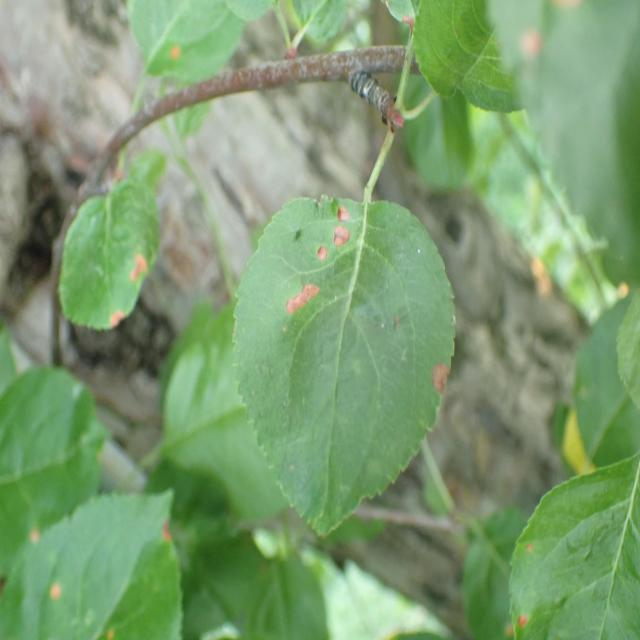Black Rot: (282, 276, 324, 339), (424, 358, 459, 409), (124, 240, 156, 294), (102, 306, 138, 342), (319, 199, 371, 221), (305, 241, 334, 274), (332, 220, 357, 256)
